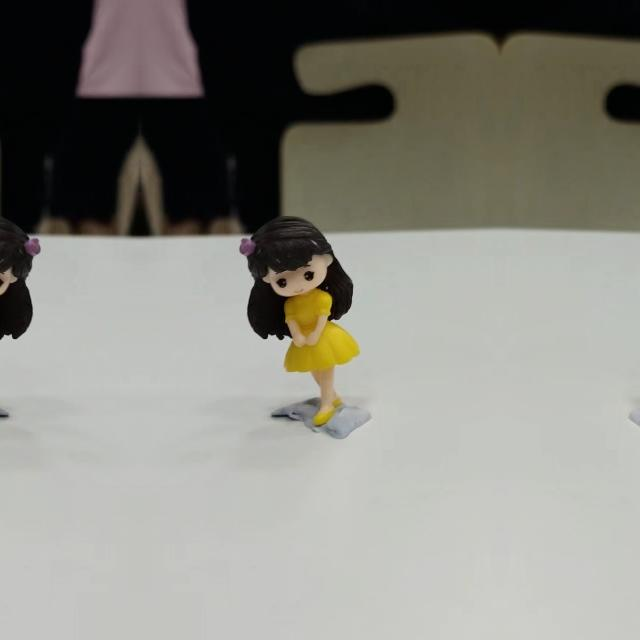woman head: (240, 216, 338, 298), (0, 216, 40, 297)
